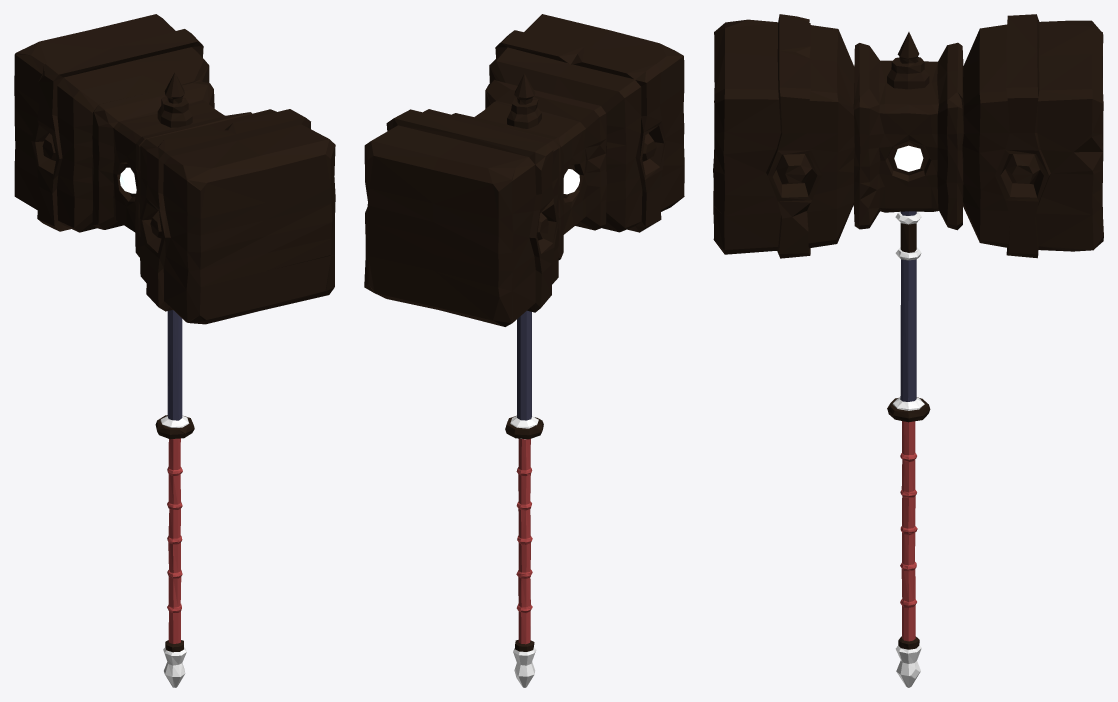
The model's file is SFFA_Weapon_Hammer_Iron_004.fbx.
3 renders of one model, left to right at view 1: azimuth 30°, elevation 25°; view 2: azimuth 150°, elevation 25°; view 3: azimuth 270°, elevation 25°, orthographic. The views are drawn at different scales.
Parts seen in each view (by area): view 1: SFFA_Weapon_Hammer_Iron_004; view 2: SFFA_Weapon_Hammer_Iron_004; view 3: SFFA_Weapon_Hammer_Iron_004.
Boxes of the visible parts, box(x1,y1,x2,y2) form: SFFA_Weapon_Hammer_Iron_004: box(14, 14, 335, 687); SFFA_Weapon_Hammer_Iron_004: box(364, 14, 684, 687); SFFA_Weapon_Hammer_Iron_004: box(713, 14, 1103, 687).
Size of the model in its own units: 37.35 by 142 by 76.52.
